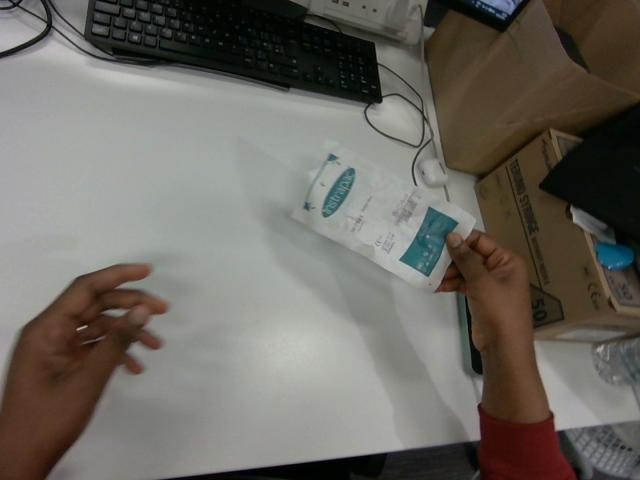gallipot: (293, 143, 474, 291)
